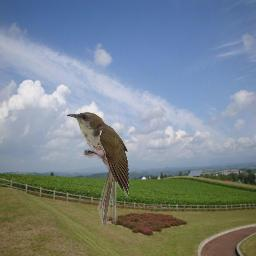Cuckoo: (66, 111, 129, 226)
